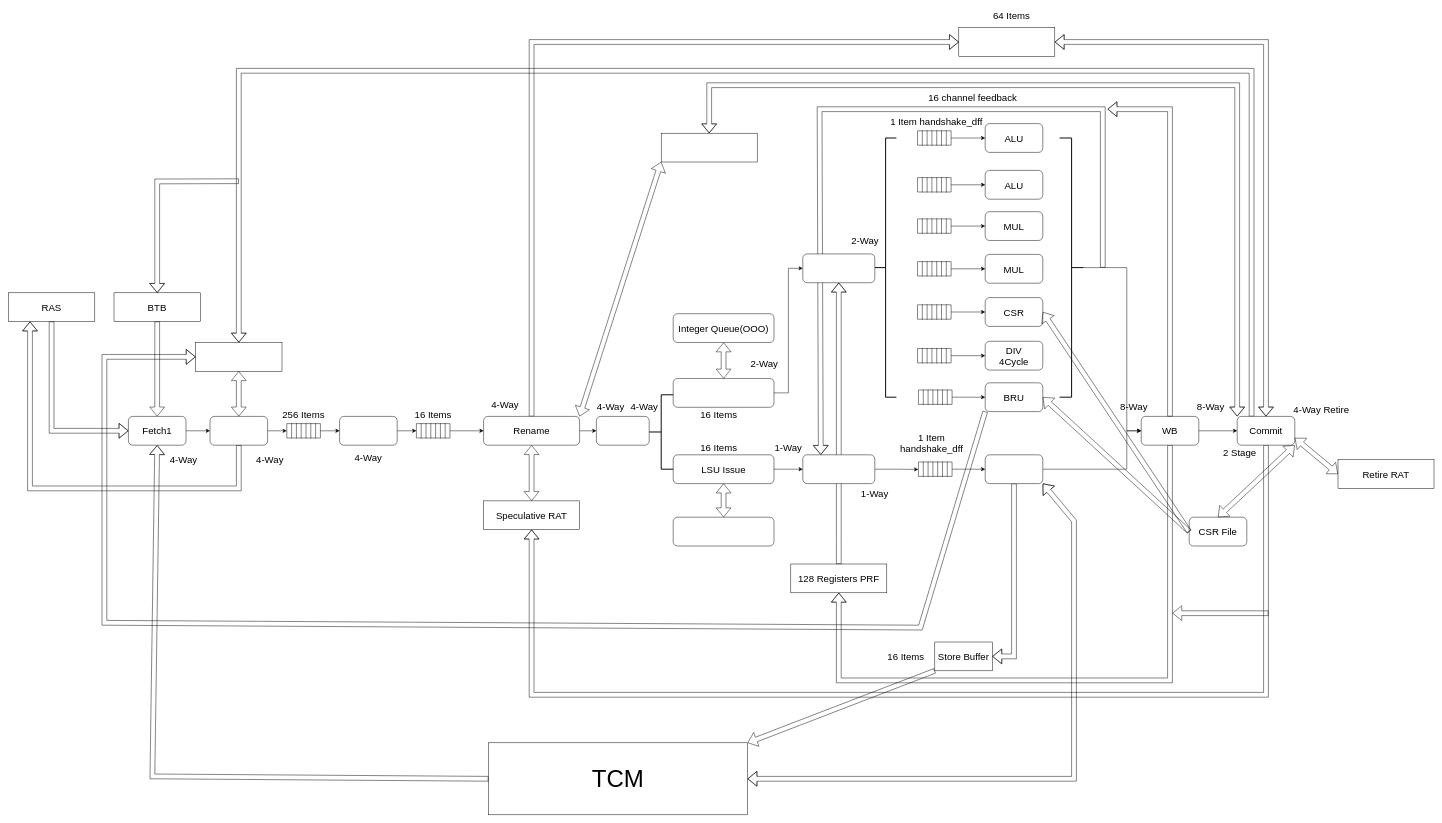
This 1442x823 diagram has some shape labels left out. The centre of each missing label's shape, as x and y in pixels:
"Decode" belongs at point 368,430.
"Dispatch" belongs at point 622,430.
"Fetch2" belongs at point 239,430.
"FreeList" belongs at point 709,147.
"GShare" belongs at point 238,356.
"Integer Issue" belongs at point 723,392.
"Integer Readreg" belongs at point 838,268.
"LSU 2 Stage" belongs at point 1014,469.
"LSU Queue(IO)" belongs at point 723,531.
"LSU Readreg" belongs at point 838,469.
"ROB" belongs at point 1006,41.
